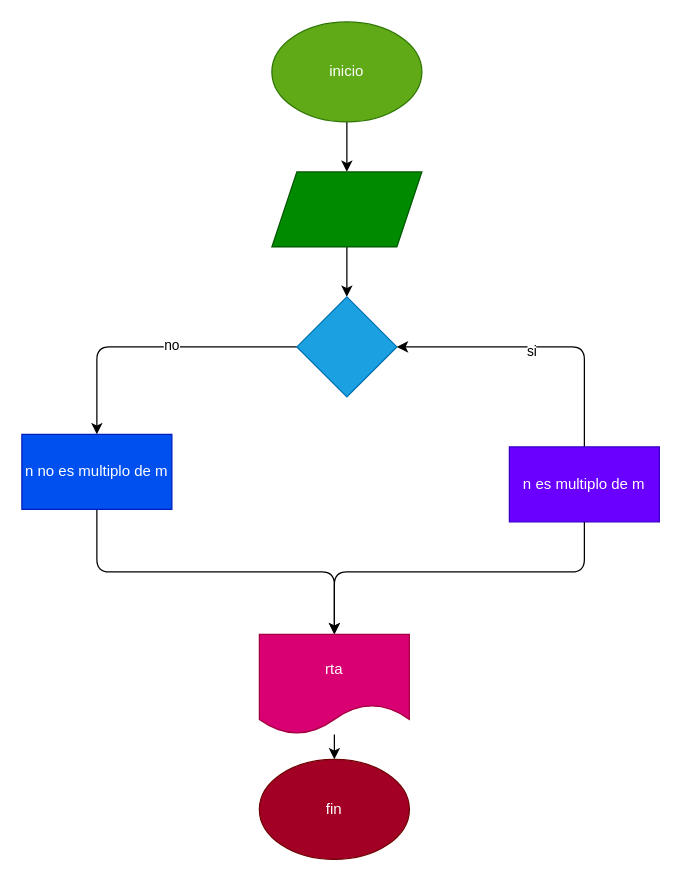
This 681x881 diagram has some shape labels left out. Each missing label, with the centre of its shape:
if 0 = n%m: (346,346)
n,m: (346,209)
